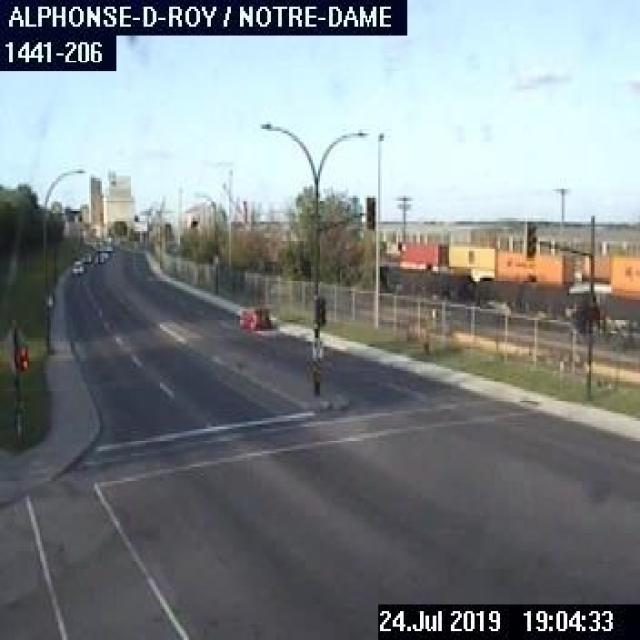vehicle: (236, 302, 272, 329), (70, 256, 86, 277)
